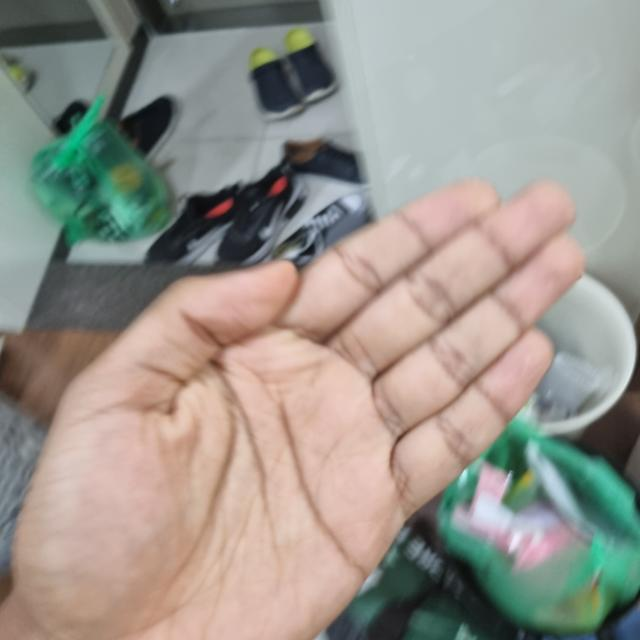Paper: (5, 171, 585, 639)
